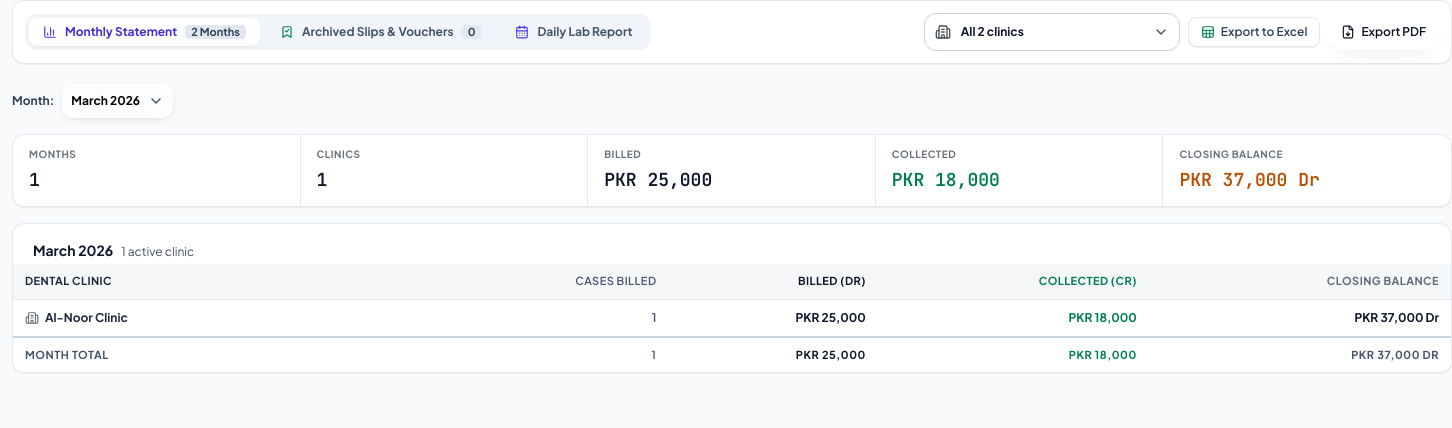
Scenario: choosing which clinics are in the statement › recomputes the month total from the clinics that are left
Click the button "March 2026".
click(118, 101)  # box [62, 84, 173, 118]
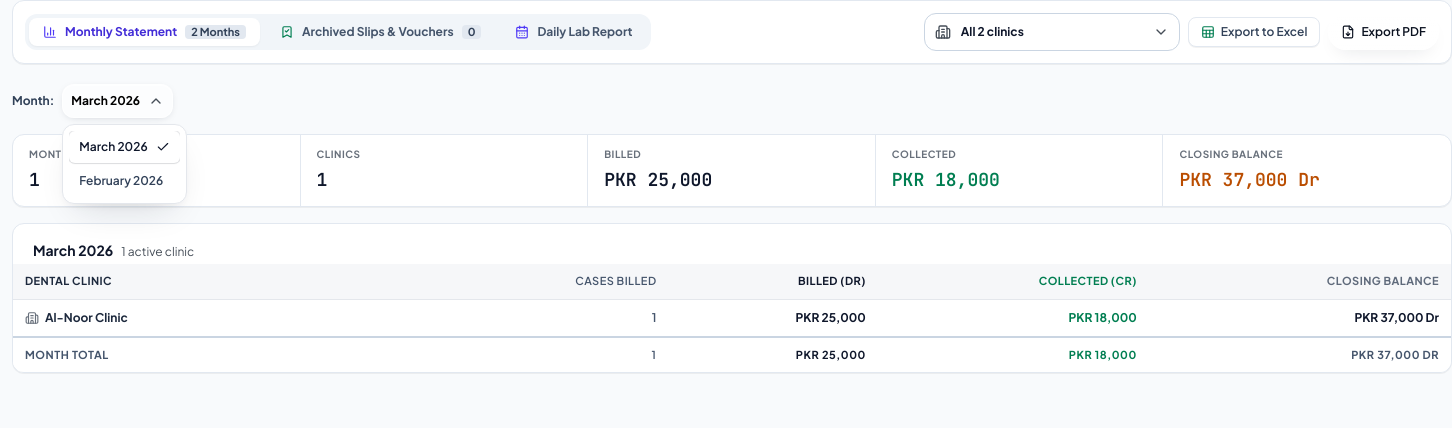
Click the option "February 2026".
click(124, 181)  # box [69, 165, 180, 197]
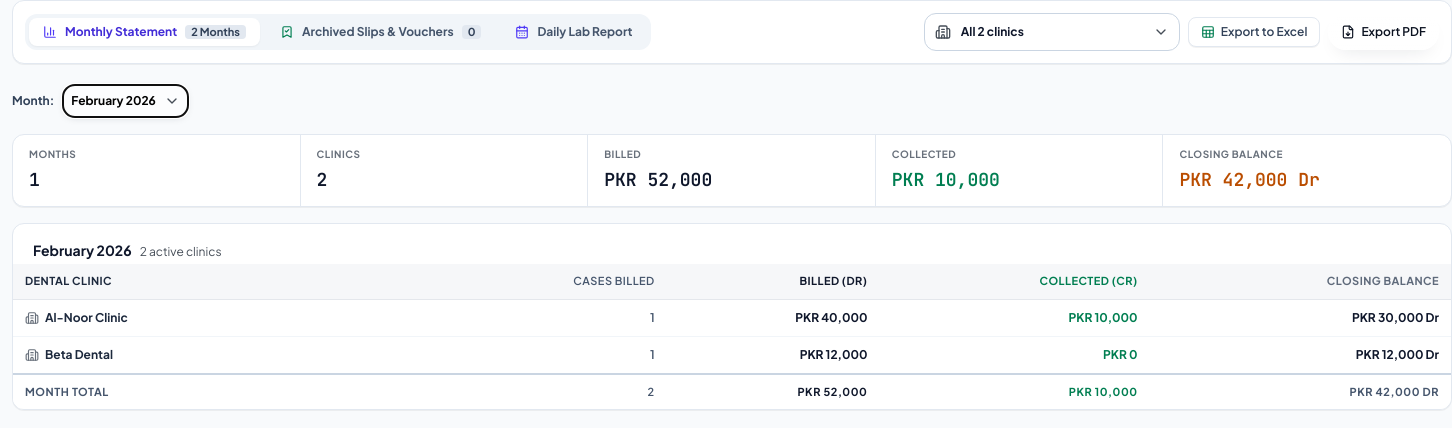
Check: the table is shown, box [13, 264, 1451, 409]
Check: the text "PKR 52,000" is shown, box [604, 168, 712, 191]
Click the dropdown named "Filter by dental clinic".
click(1052, 32)  # box [924, 13, 1180, 51]
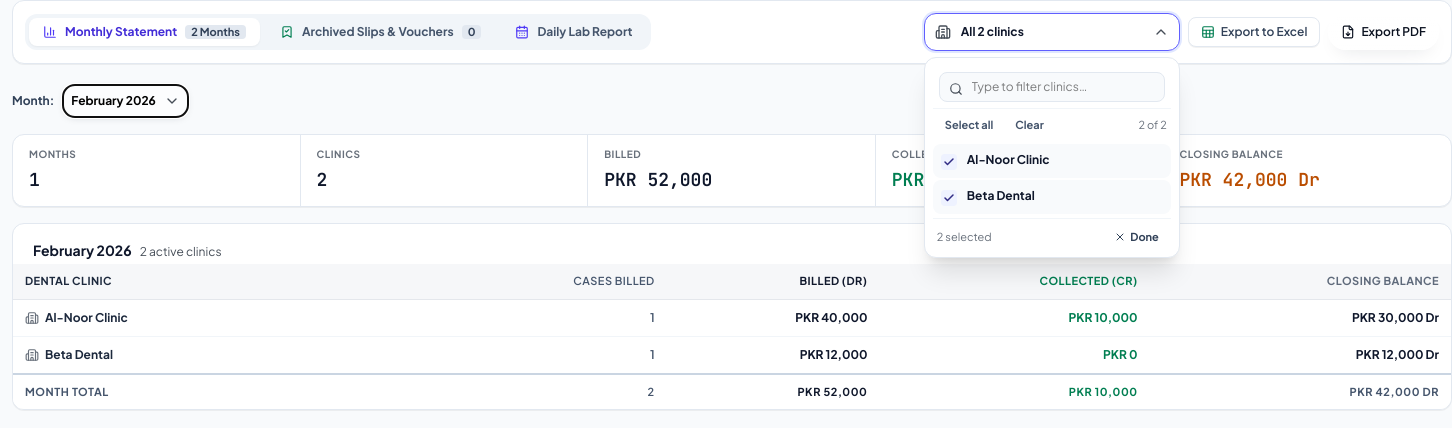
Click the option "Beta Dental".
click(1052, 196)  # box [933, 180, 1171, 214]
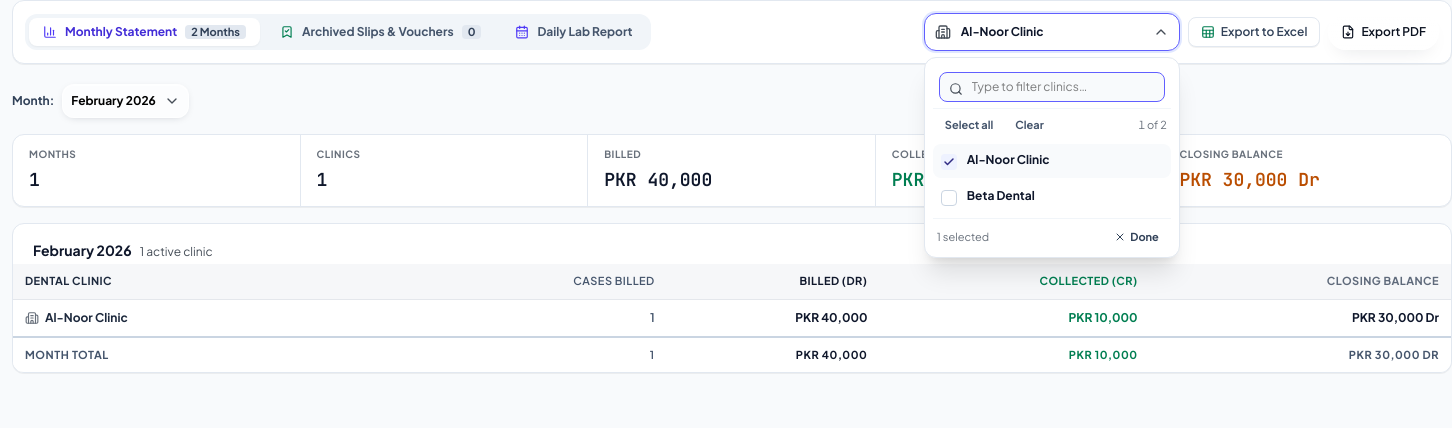
Check: the text "PKR 40,000" is shown, box [604, 168, 712, 191]
